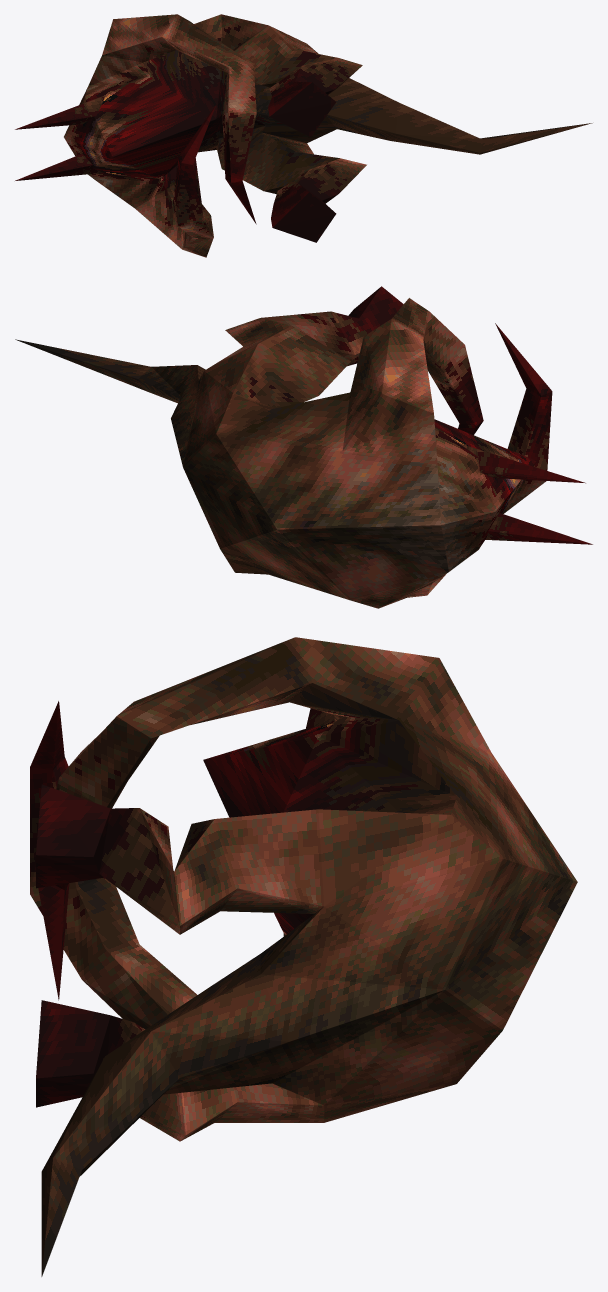
The model's file is fiend.glb.
3 views of the same model, one above another, from view 1: azimuth 30°, elevation 25°; view 2: azimuth 150°, elevation 25°; view 3: azimuth 270°, elevation 25° (orthographic). The views are drawn at different scales.
Parts seen in each view (by area): view 1: fiend; view 2: fiend; view 3: fiend.
Boxes of the visible parts, x1,y1,x2,y2 form: fiend: (15,14,592,257); fiend: (15,286,592,608); fiend: (30,637,577,1276).
Bounding box in the file's own units: 83.55 × 35.96 × 38.69.
Materials: 1 (1 with a texture image).
